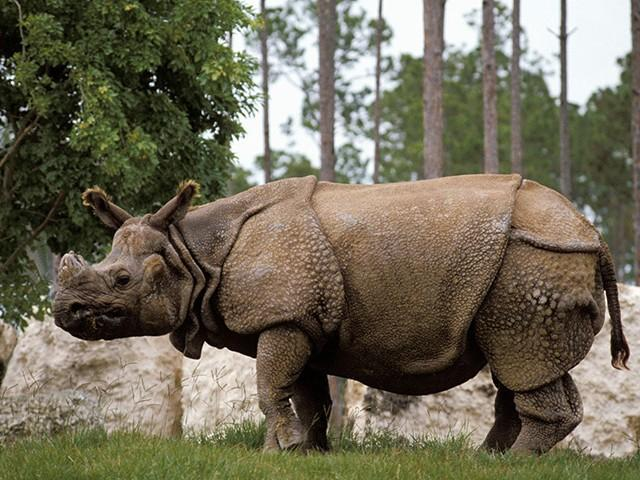Rhinoceros: (29, 160, 636, 460)
